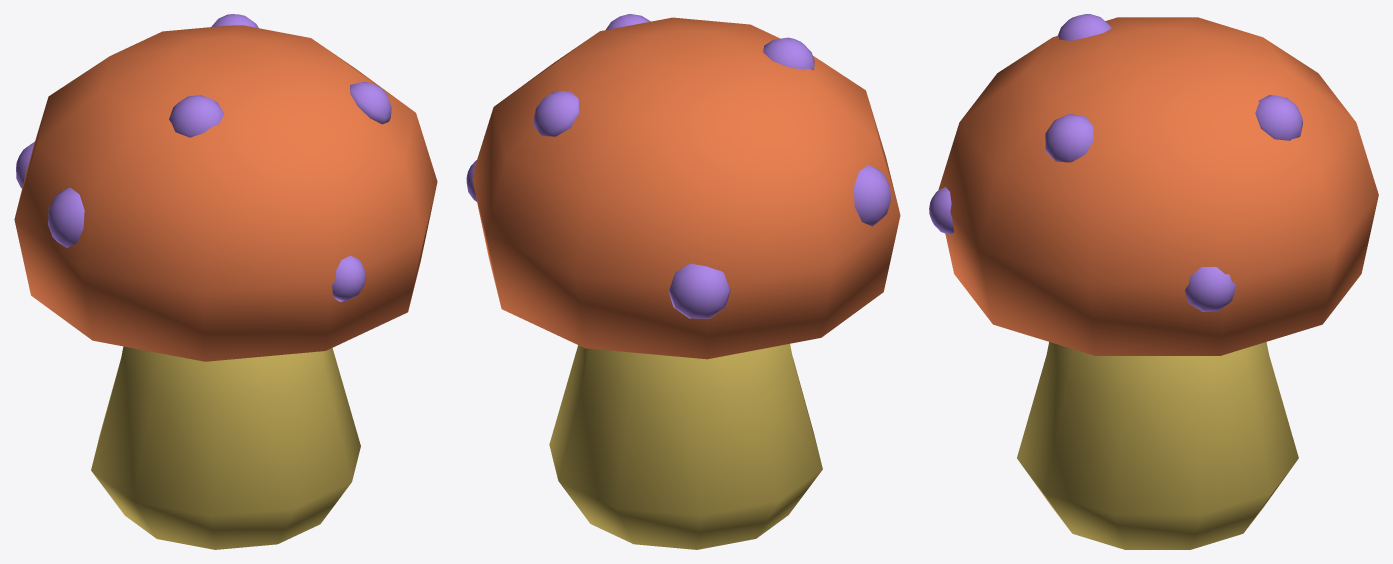
File: Mushroom_FlyAgaric_Orange_3.fbx
3 views of the same model, side by side, from view 1: azimuth 30°, elevation 25°; view 2: azimuth 150°, elevation 25°; view 3: azimuth 270°, elevation 25° (orthographic). The views are drawn at different scales.
Parts seen in each view (by area): view 1: Cylinder.551, Cylinder.550, Cylinder.549; view 2: Cylinder.551, Cylinder.550, Cylinder.549; view 3: Cylinder.551, Cylinder.550, Cylinder.549.
Boxes of the visible parts, bbox=[...] form: Cylinder.551: bbox=[14, 25, 437, 361]; Cylinder.550: bbox=[91, 346, 360, 549]; Cylinder.549: bbox=[16, 14, 391, 301]; Cylinder.551: bbox=[472, 17, 900, 359]; Cylinder.550: bbox=[549, 344, 822, 549]; Cylinder.549: bbox=[466, 14, 890, 318]; Cylinder.551: bbox=[938, 17, 1378, 355]; Cylinder.550: bbox=[1017, 342, 1298, 549]; Cylinder.549: bbox=[929, 14, 1302, 311].
Bounding box in the file's own units: 81.5 × 93.68 × 83.14.
